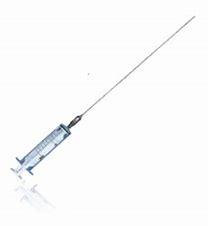Syringe: (6, 10, 199, 186)
